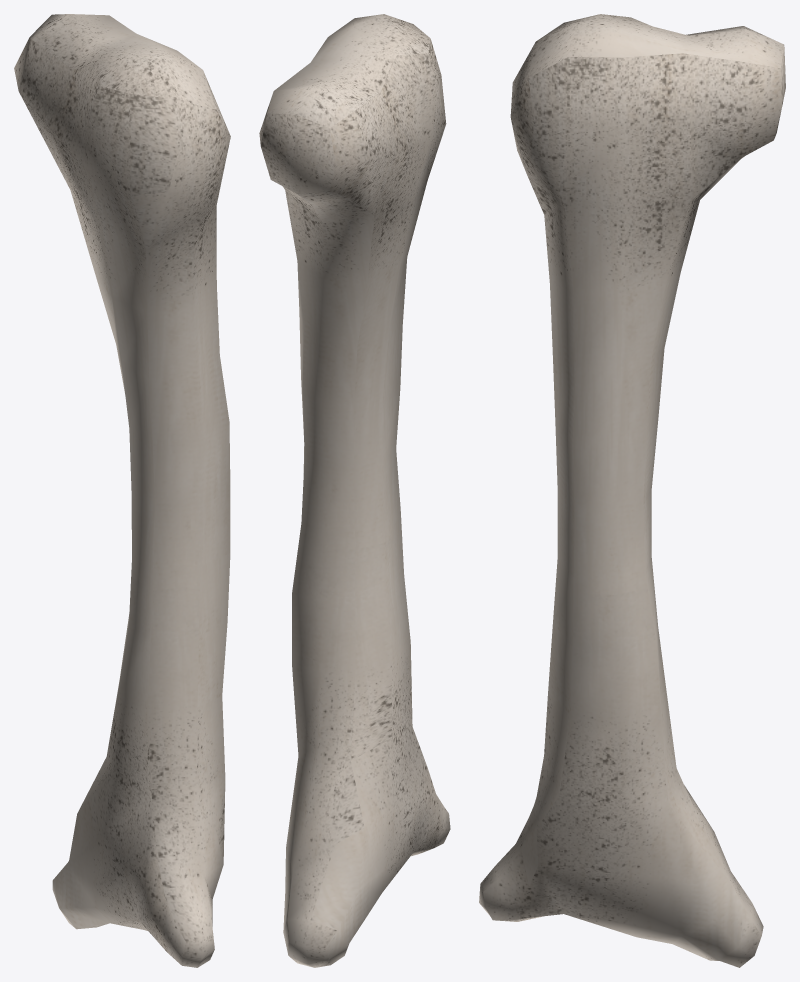
Rendered from bone-1-gen.fbx.
The picture shows the model from 3 angles, left to right: view 1: azimuth 30°, elevation 25°; view 2: azimuth 150°, elevation 25°; view 3: azimuth 270°, elevation 25°; orthographic projection. The views are drawn at different scales.
Parts seen in each view (by area): view 1: BONE 1; view 2: BONE 1; view 3: BONE 1.
Boxes of the visible parts, bbox=[...] form: BONE 1: bbox=[14, 14, 230, 967]; BONE 1: bbox=[259, 14, 450, 967]; BONE 1: bbox=[479, 14, 785, 967].
Bounding box in the file's own units: 151 × 996 × 294.
